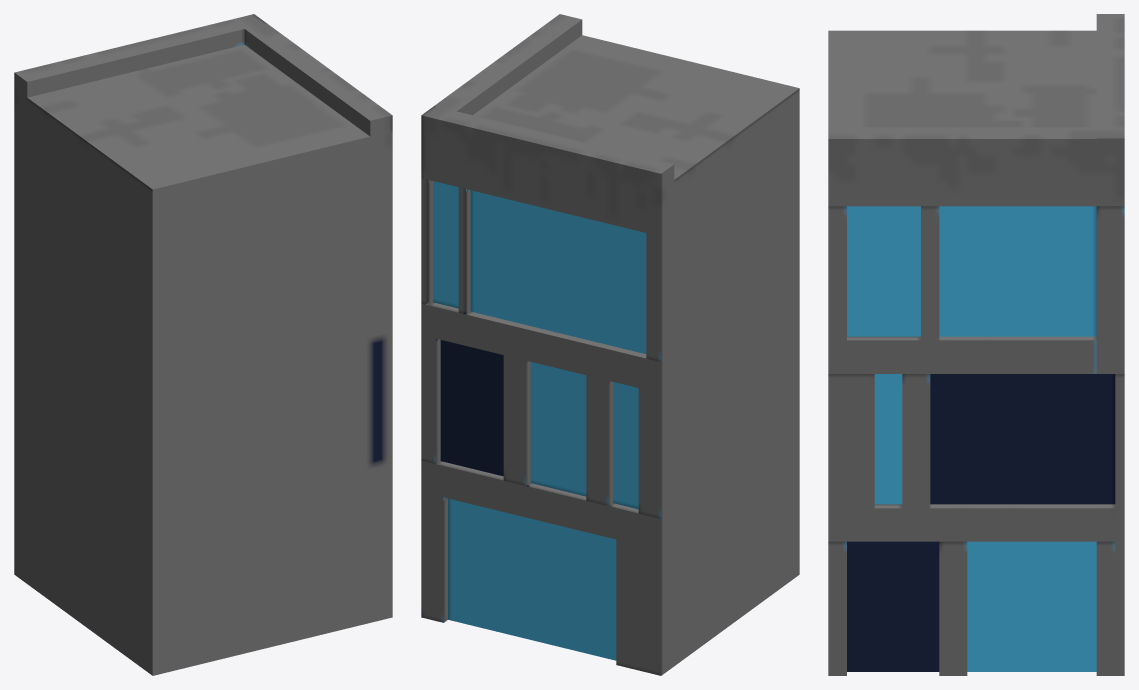
The model's file is B_m_GÓRA_BOK_CZ_JAKAŚTAM.dae.
3 renders of one model, left to right at view 1: azimuth 30°, elevation 25°; view 2: azimuth 150°, elevation 25°; view 3: azimuth 270°, elevation 25°, orthographic. The views are drawn at different scales.
Parts seen in each view (by area): view 1: Content; view 2: Content; view 3: Content.
Part boxes in pixels (x1,y1,x2,y2): Content: (14, 14, 392, 675); Content: (421, 14, 799, 675); Content: (828, 14, 1124, 675).
Size of the model in its own units: 32 by 64 by 32.
Materials: 1 (1 with a texture image).
